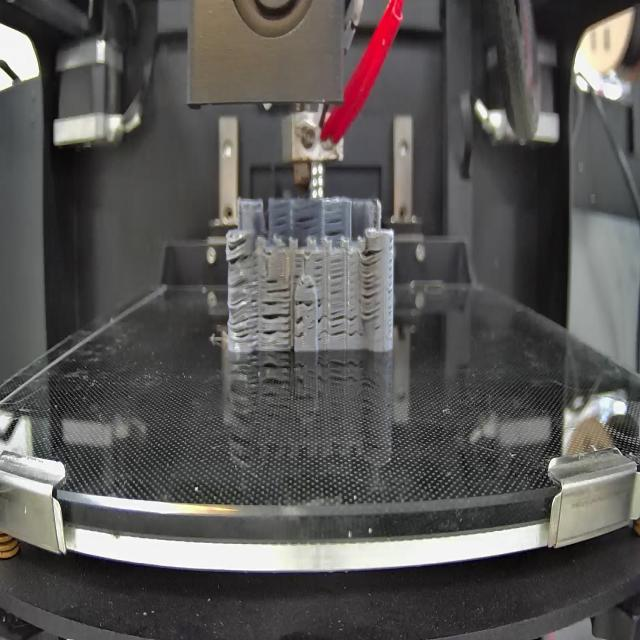cracks: (230, 276, 259, 343), (360, 247, 382, 322), (260, 299, 291, 343), (329, 257, 347, 295), (226, 240, 252, 264), (326, 214, 345, 240), (329, 309, 346, 338), (266, 275, 290, 294), (346, 305, 359, 340), (317, 298, 326, 342), (312, 254, 325, 284), (295, 312, 306, 342), (296, 215, 316, 231), (294, 297, 315, 310), (294, 255, 304, 281), (275, 210, 288, 229), (305, 279, 314, 292)
